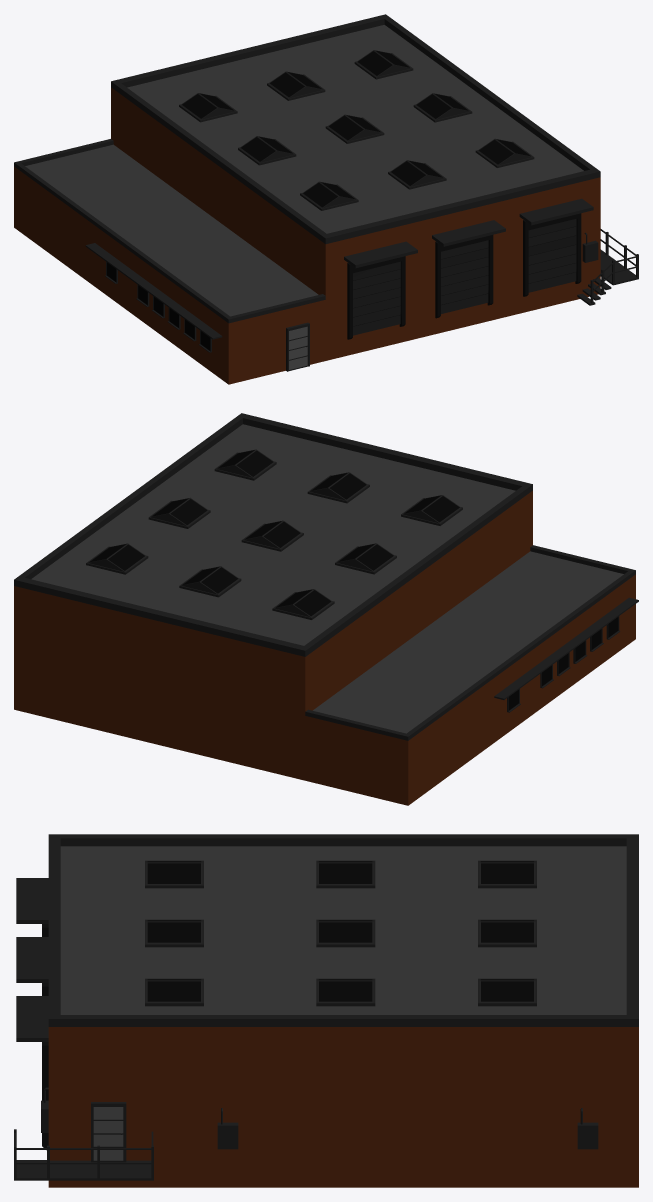
Rendered from SM_warehouse_02.FBX.
3 views of the same model, one above another, from view 1: azimuth 30°, elevation 25°; view 2: azimuth 150°, elevation 25°; view 3: azimuth 270°, elevation 25° (orthographic). The views are drawn at different scales.
Visible parts, largest first — view 1: Warehouse_02M; view 2: Warehouse_02M; view 3: Warehouse_02M.
Part boxes in pixels (left/top/right/bottom): Warehouse_02M: left=14, top=14, right=638, bottom=384; Warehouse_02M: left=14, top=413, right=638, bottom=805; Warehouse_02M: left=14, top=834, right=638, bottom=1187.
Bounding box in the file's own units: 2190 × 650 × 2117.
